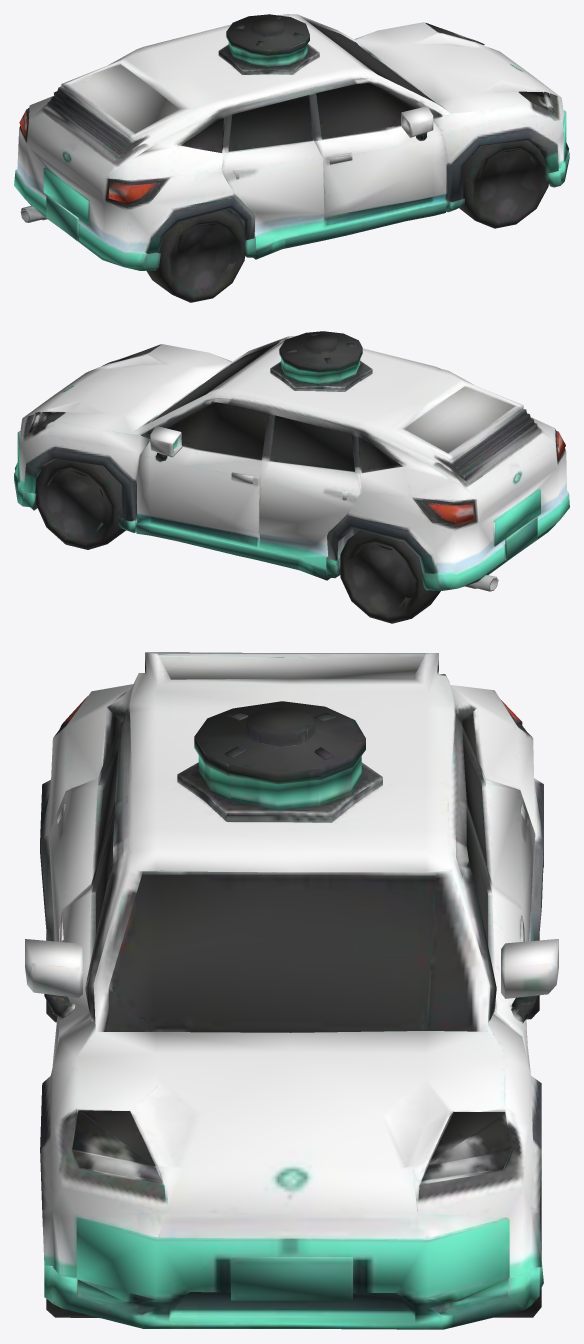
The model's file is waymo-robotaxi.glb.
3 renders of one model, top to bottom at view 1: azimuth 30°, elevation 25°; view 2: azimuth 150°, elevation 25°; view 3: azimuth 270°, elevation 25°, orthographic. The views are drawn at different scales.
Parts seen in each view (by area): view 1: tripo_node_7735fa6c-aecd-4b29-a347-21a3795919bb; view 2: tripo_node_7735fa6c-aecd-4b29-a347-21a3795919bb; view 3: tripo_node_7735fa6c-aecd-4b29-a347-21a3795919bb.
Part boxes in pixels (box(x1,y1,x2,y2)): tripo_node_7735fa6c-aecd-4b29-a347-21a3795919bb: box(14, 14, 569, 302); tripo_node_7735fa6c-aecd-4b29-a347-21a3795919bb: box(14, 331, 569, 623); tripo_node_7735fa6c-aecd-4b29-a347-21a3795919bb: box(25, 652, 558, 1329).
Bounding box in the file's own units: 0.998 × 0.4121 × 0.4863.
Materials: 1 (1 with a texture image).
